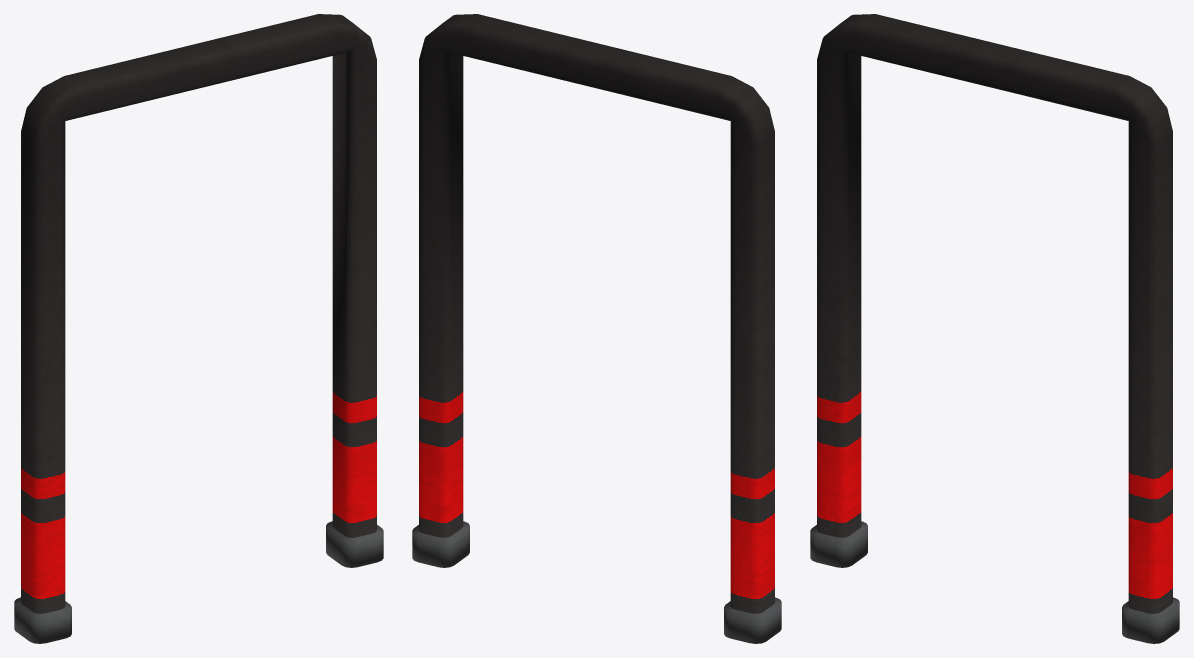
File: Gas_Guard_rail.glb
The picture shows the model from 3 angles, left to right: view 1: azimuth 30°, elevation 25°; view 2: azimuth 150°, elevation 25°; view 3: azimuth 330°, elevation 25°; orthographic projection.
Parts seen in each view (by area): view 1: Gas_Guard_rail.001; view 2: Gas_Guard_rail.001; view 3: Gas_Guard_rail.001.
Boxes of the visible parts, x1,y1,x2,y2 form: Gas_Guard_rail.001: (14,14,383,643); Gas_Guard_rail.001: (412,14,781,643); Gas_Guard_rail.001: (810,14,1179,643).
Bounding box in the file's own units: 0.6782 × 1 × 0.0851.
Materials: 1 (1 with a texture image).
